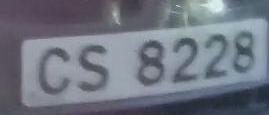2: (169, 31, 205, 89), (199, 30, 231, 85)
8: (130, 34, 172, 93), (230, 25, 262, 82)
C: (32, 41, 76, 102)
S: (70, 38, 117, 99)
